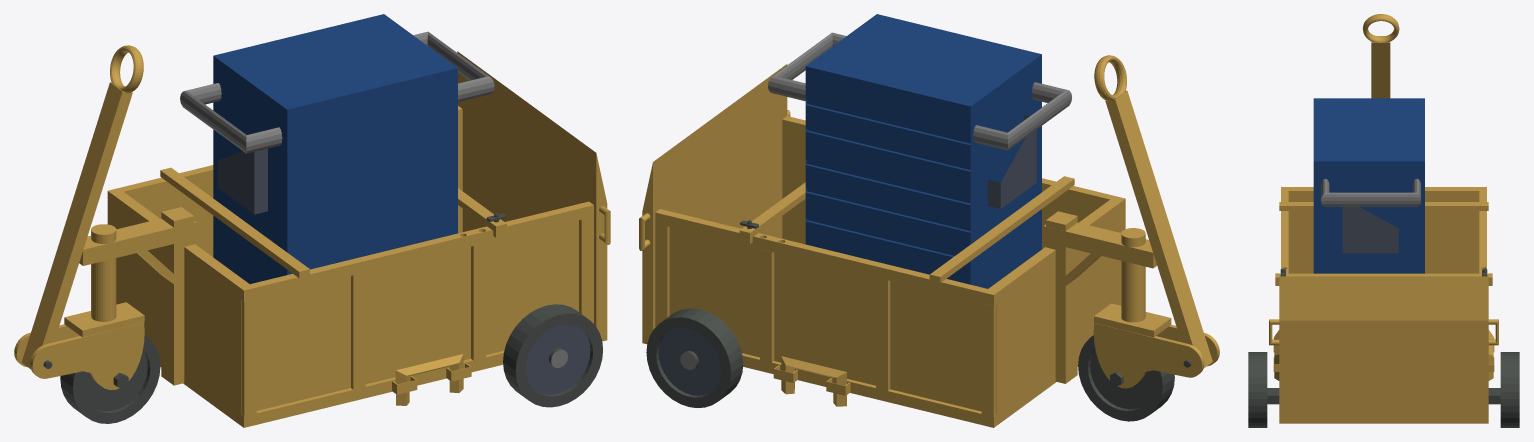
3 renders of one model, left to right at view 1: azimuth 30°, elevation 25°; view 2: azimuth 150°, elevation 25°; view 3: azimuth 270°, elevation 25°, orthographic. The views are drawn at different scales.
Visible parts, largest first — view 1: 柱体.012, 立方体.010, 立方体.004, 立方体.008, 立方体.007, 立方体.003, 立方体.009, 圆环, 柱体.001, 立方体.001, 立方体.005, 立方体.002 (+8 smaller); view 2: 柱体.012, 立方体.010, 立方体.004, 立方体.008, 立方体.007, 立方体.003, 立方体.009, 圆环.002, 柱体.001, 立方体.001, 立方体.002, 立方体.005 (+6 smaller); view 3: 立方体.004, 柱体.012, 立方体.008, 立方体.007, 立方体.010, 立方体.003, 立方体.006, 立方体.005, 环体, 平面.002, 环体.001.
Boxes of the visible parts, x1,y1,x2,y2 form: 柱体.012: (180,14,494,283); 立方体.010: (107,106,593,427); 立方体.004: (457,51,607,341); 立方体.008: (112,192,249,423); 立方体.007: (503,304,602,407); 立方体.003: (21,82,132,369); 立方体.009: (107,202,593,416); 圆环: (30,322,144,390); 柱体.001: (60,335,160,423); 立方体.001: (161,207,194,385); 立方体.005: (160,167,309,278); 立方体.002: (79,218,196,265); 柱体.012: (768,14,1071,288); 立方体.010: (655,116,1125,427); 立方体.004: (642,64,787,344); 立方体.008: (988,199,1120,423); 立方体.007: (646,308,743,407); 立方体.003: (1105,90,1212,367); 立方体.009: (655,210,1125,416); 圆环.002: (1093,323,1204,388); 柱体.001: (1078,335,1174,421); 立方体.001: (1046,211,1077,383); 立方体.002: (1043,222,1156,268); 立方体.005: (929,176,1074,283); 立方体.004: (1279,276,1488,423); 柱体.012: (1313,98,1424,273); 立方体.008: (1288,187,1479,273); 立方体.007: (1248,352,1519,427); 立方体.010: (1281,187,1486,273); 立方体.003: (1371,36,1390,98); 立方体.006: (1275,273,1492,285); 立方体.005: (1279,202,1488,210); 环体: (1362,14,1399,42); 平面.002: (1274,330,1493,380); 环体.001: (1269,319,1498,345).
Bounding box in the file's own units: 2.36 × 1.65 × 1.42.
